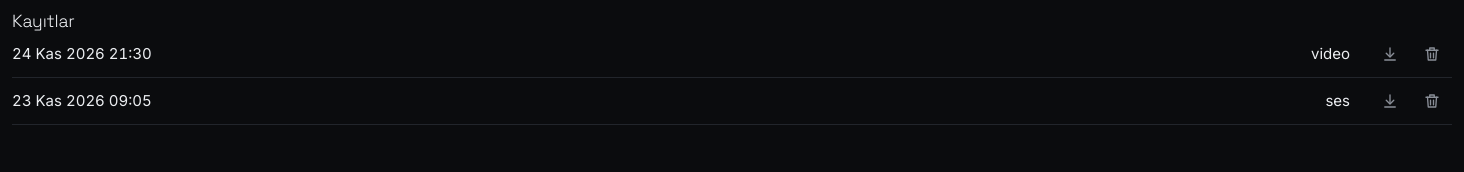
it: recording actions › Sil asks inline (no window.confirm); Vazgeç and Esc cancel
Step 1. Click the 1st button named "Sil" → [1432, 54], box [1412,34,1452,74]
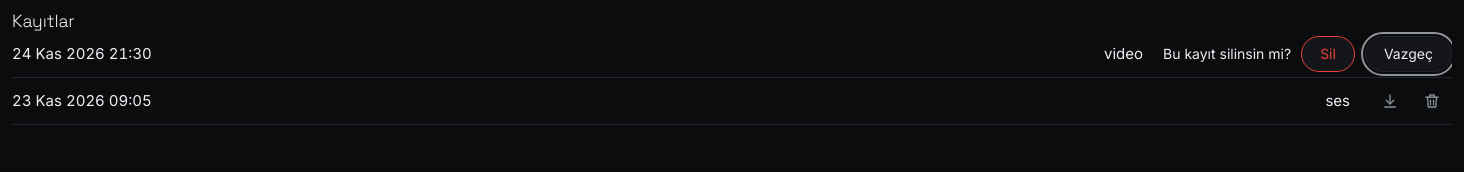
Check: the text "Bu kayıt silinsin mi?" is shown, box [1163,44,1291,64]
Step 2. Click the button "Vazgeç" → [1408, 54], box [1365,36,1452,72]
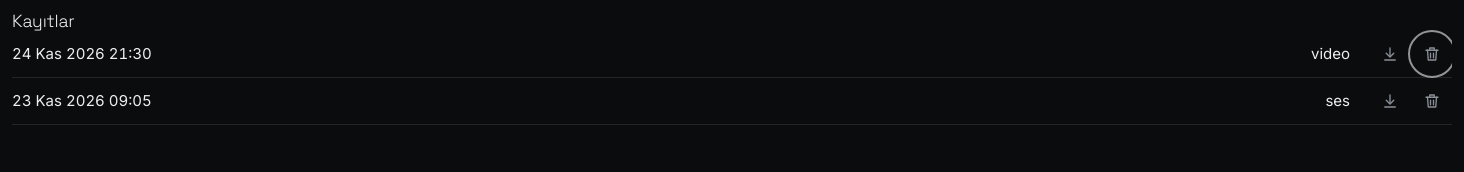
Check: the text "Bu kayıt silinsin mi?" is gone
Step 3. Click the 1st button named "Sil" → [1432, 54], box [1412,34,1452,74]
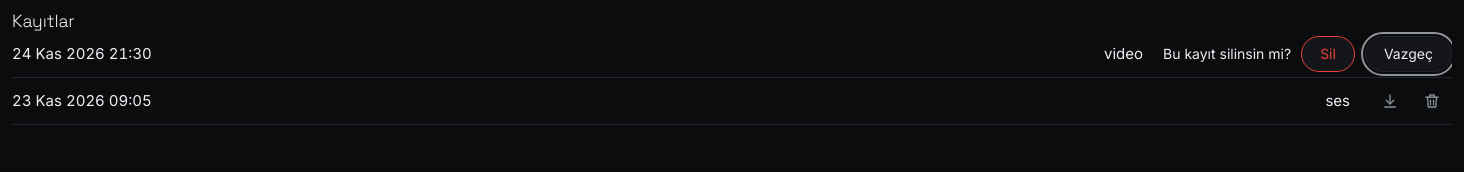
Step 4. Press Escape in the button "Vazgeç", box [1365,36,1452,72]
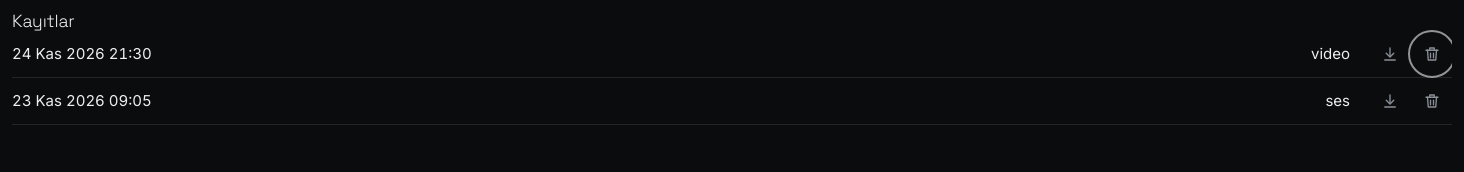
Check: the number of list items is 2, box [12,31,1452,78]; [12,78,1452,125]
Check: the text "Bu kayıt silinsin mi?" is gone
